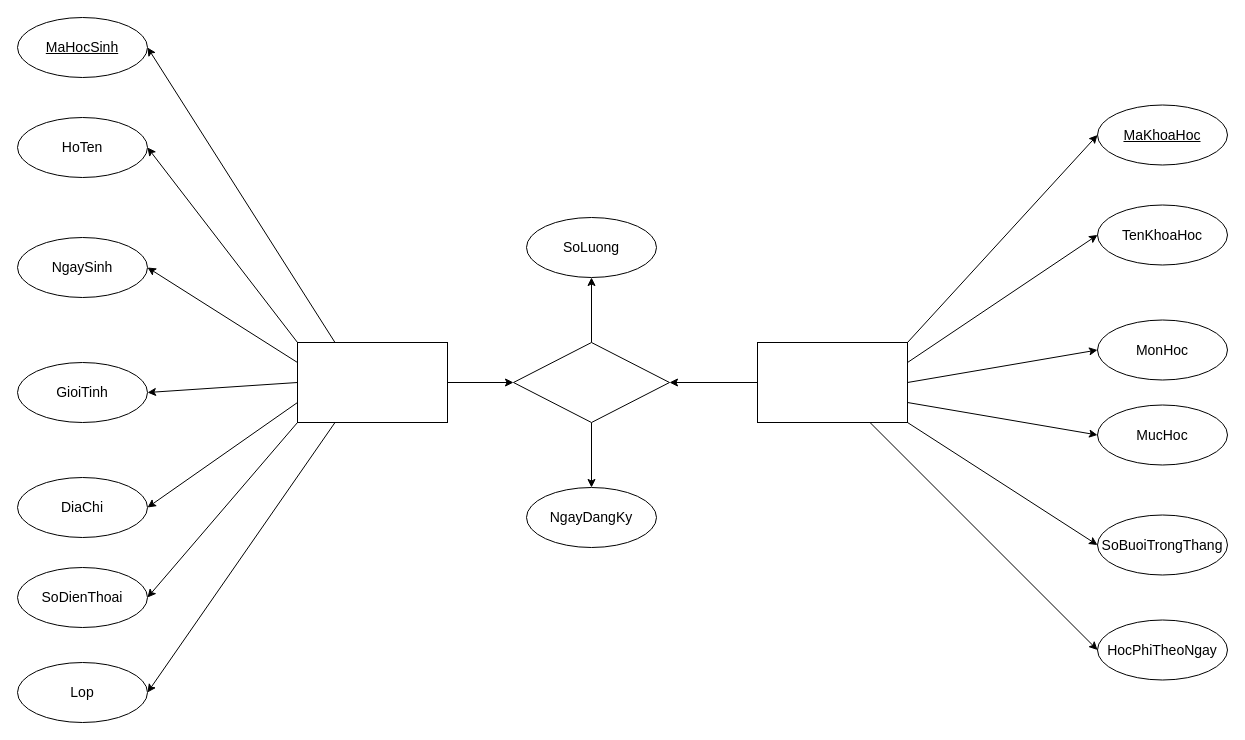
Some shapes in this 1245 by 740 pixel diagram are drawn without their labels. Here are the shapes that lost their labels. From the top down, the centre of each, then its label:
At [372,382]: "HocSinh".
At [591,382]: "Đăng ký".
At [832,382]: "KhoaHoc".
